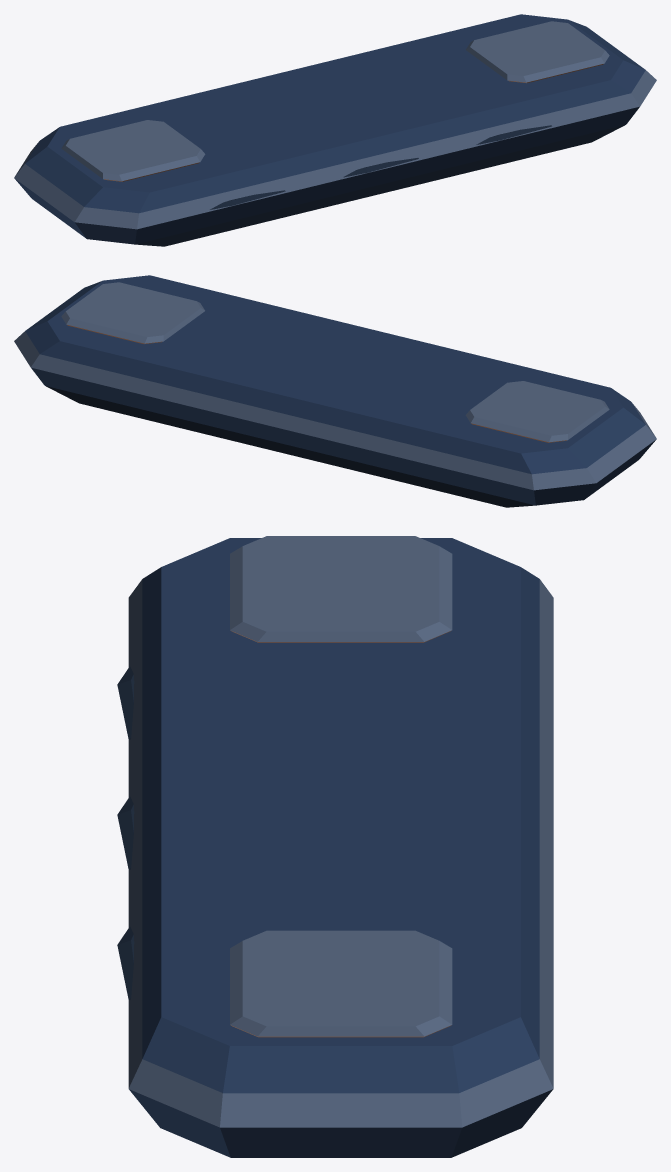
File: observatory-landing.glb
The picture shows the model from 3 angles, top to bottom: view 1: azimuth 30°, elevation 25°; view 2: azimuth 150°, elevation 25°; view 3: azimuth 270°, elevation 25°; orthographic projection. The views are drawn at different scales.
Parts seen in each view (by area): view 1: observatory-landing; view 2: observatory-landing; view 3: observatory-landing.
Boxes of the visible parts, x1,y1,x2,y2 form: observatory-landing: (14,14,656,246); observatory-landing: (14,275,656,507); observatory-landing: (117,536,553,1157).
Bounding box in the file's own units: 13.54 × 1.45 × 4.39.
